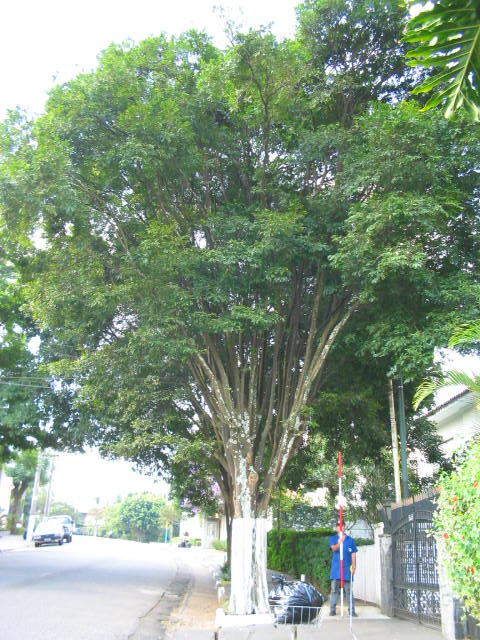crown: (5, 15, 473, 433)
stem: (219, 489, 287, 616)
stick: (332, 449, 347, 614)
tree: (2, 14, 472, 616)
